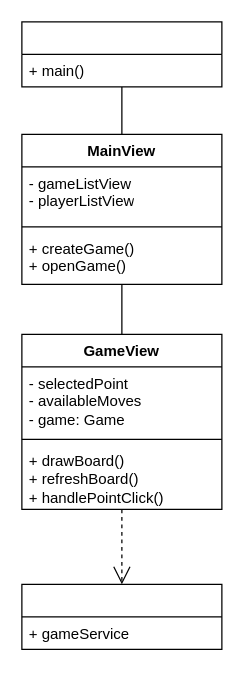
Some shapes in this 244 by 675 pixel diagram are drawn without their labels. Here are the shapes that lost their labels. From the top down, the box of each, then its label:
(21, 21, 222, 87): Launcher
(21, 583, 222, 649): AppContext
